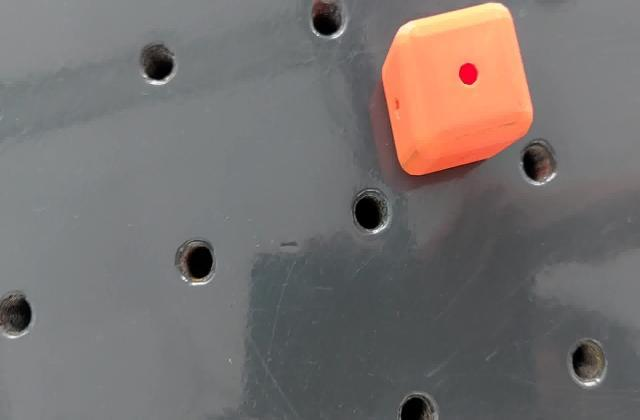cube: (378, 2, 536, 179)
